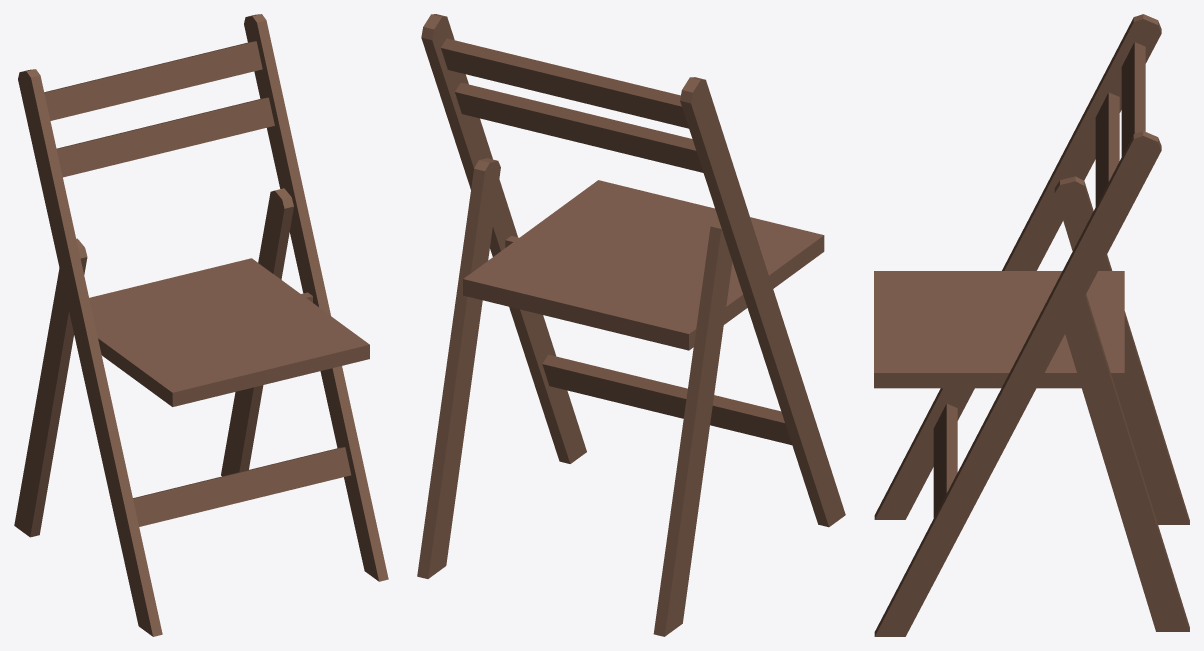
Rendered from SM_Props_Cafe_13.fbx.
3 views of the same model, side by side, from view 1: azimuth 30°, elevation 25°; view 2: azimuth 150°, elevation 25°; view 3: azimuth 270°, elevation 25° (orthographic). The views are drawn at different scales.
Visible parts, largest first — view 1: SM_Props_Cafe_13; view 2: SM_Props_Cafe_13; view 3: SM_Props_Cafe_13.
Part boxes in pixels (left/top/right/bottom): SM_Props_Cafe_13: left=14, top=14, right=388, bottom=636; SM_Props_Cafe_13: left=417, top=14, right=845, bottom=636; SM_Props_Cafe_13: left=874, top=14, right=1189, bottom=636.
Size of the model in its own units: 0.5199 by 0.9971 by 0.5693.
